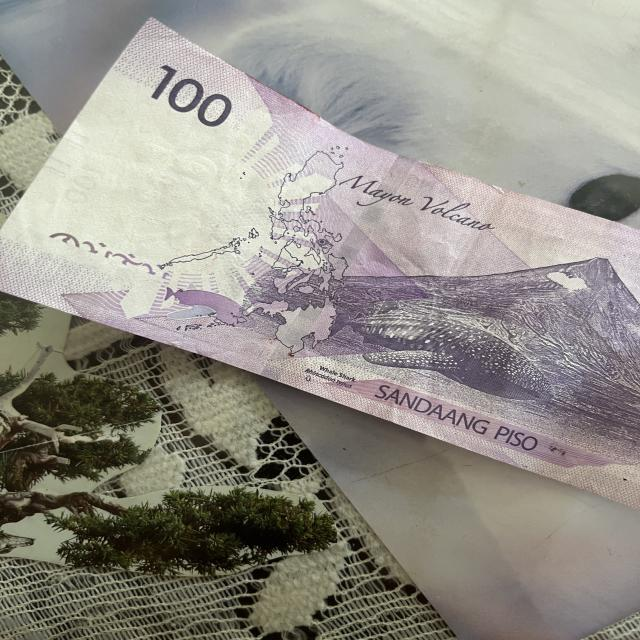100_whale: (313, 291, 563, 411)
100_whale_watermark: (170, 282, 265, 330)
value_watermark: (52, 153, 103, 206)
watermark: (67, 82, 235, 286)
